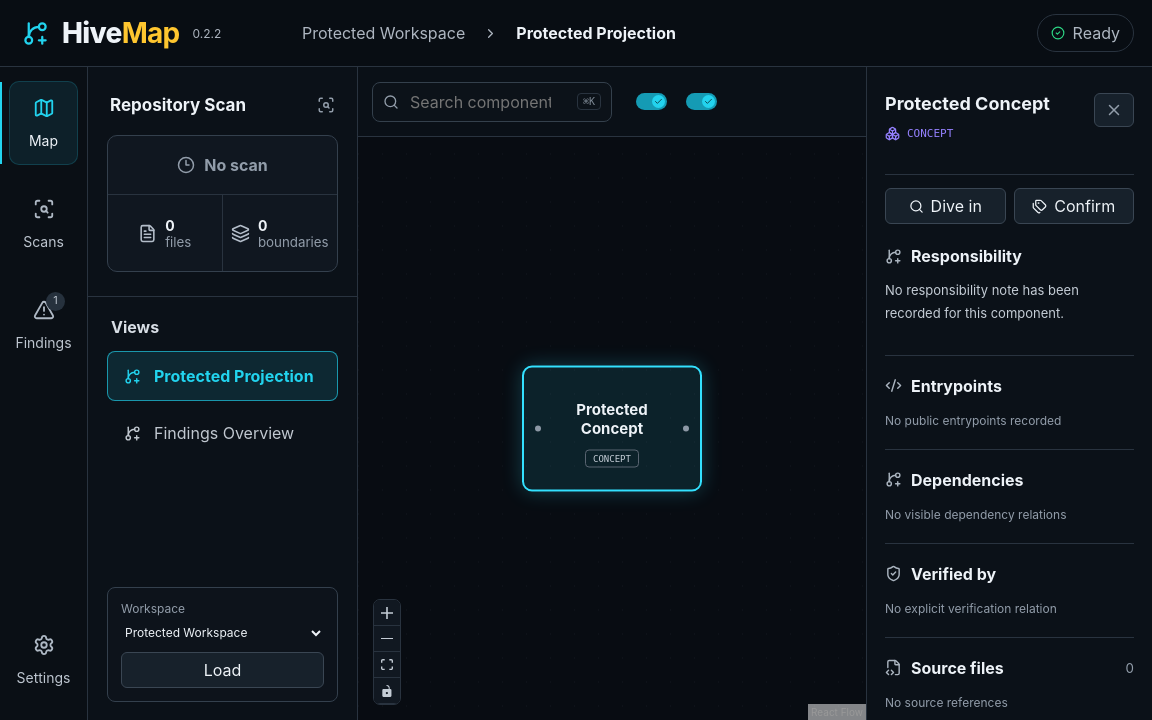
Test: App token lifecycle › selects the first finding when reopening an existing findings map
This screenshot has width=1152, height=720.
Click the button "Findings 1".
click(44, 325)  # box [9,283,78,367]
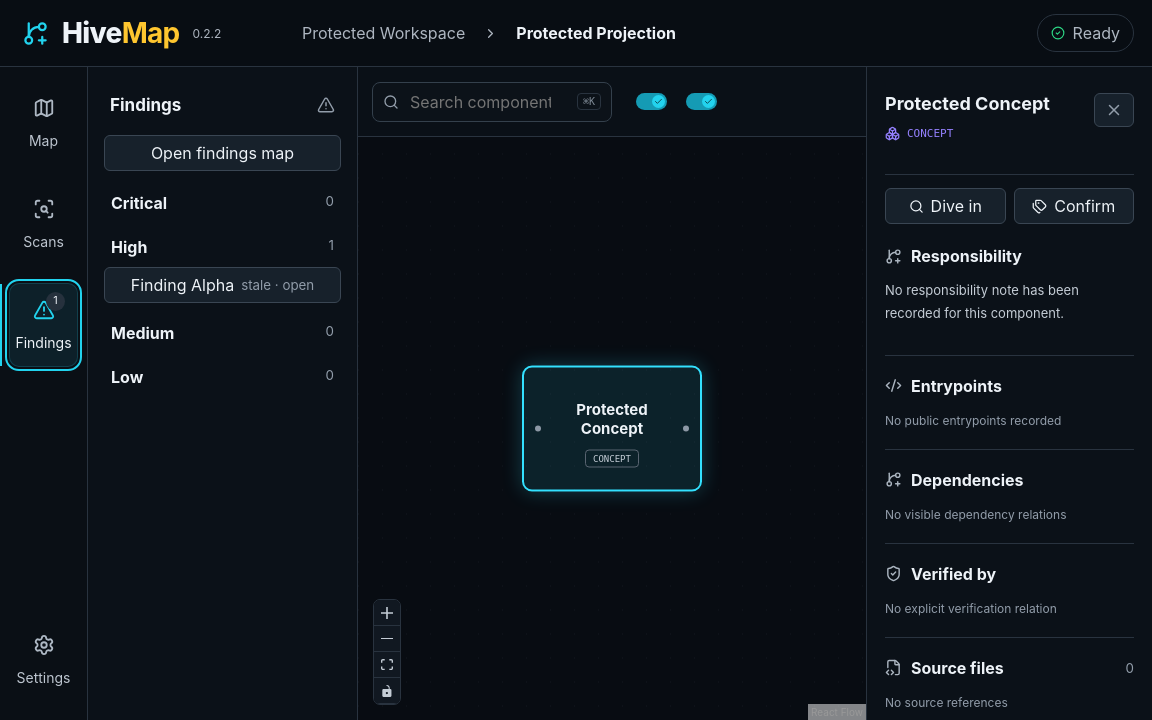
Click the button "Open findings map".
click(222, 153)  # box [104,135,341,171]
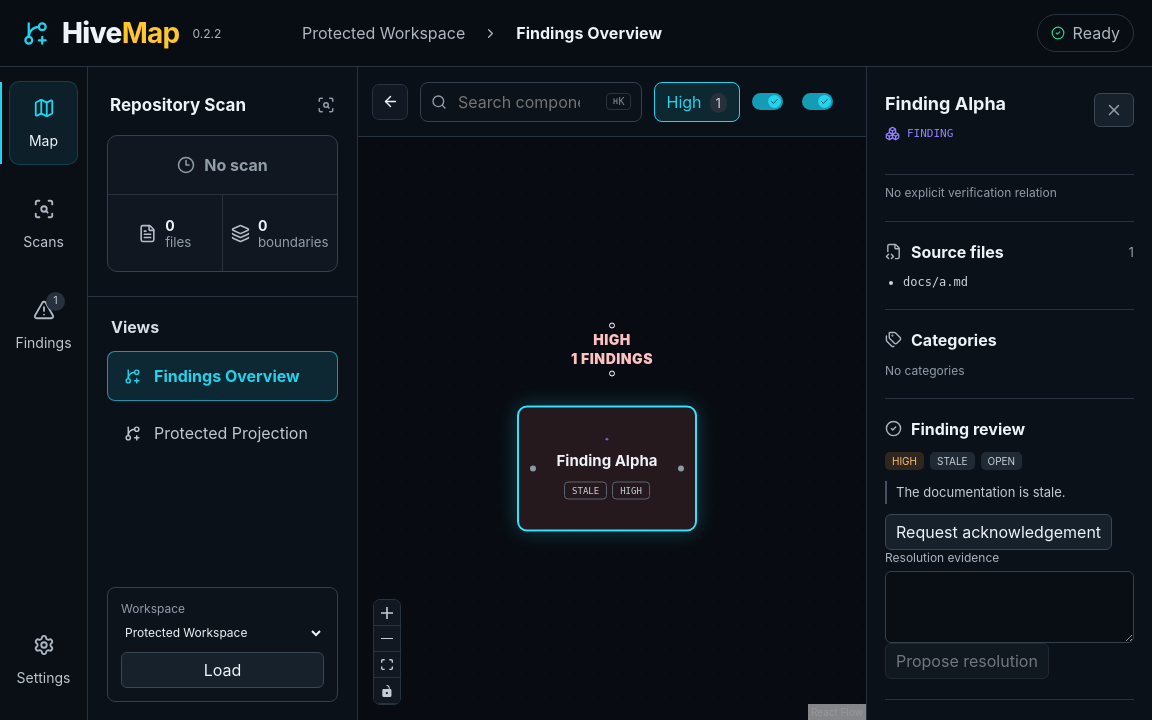
expect the text "Finding review" is shown: met, box [911,419,1025,439]
